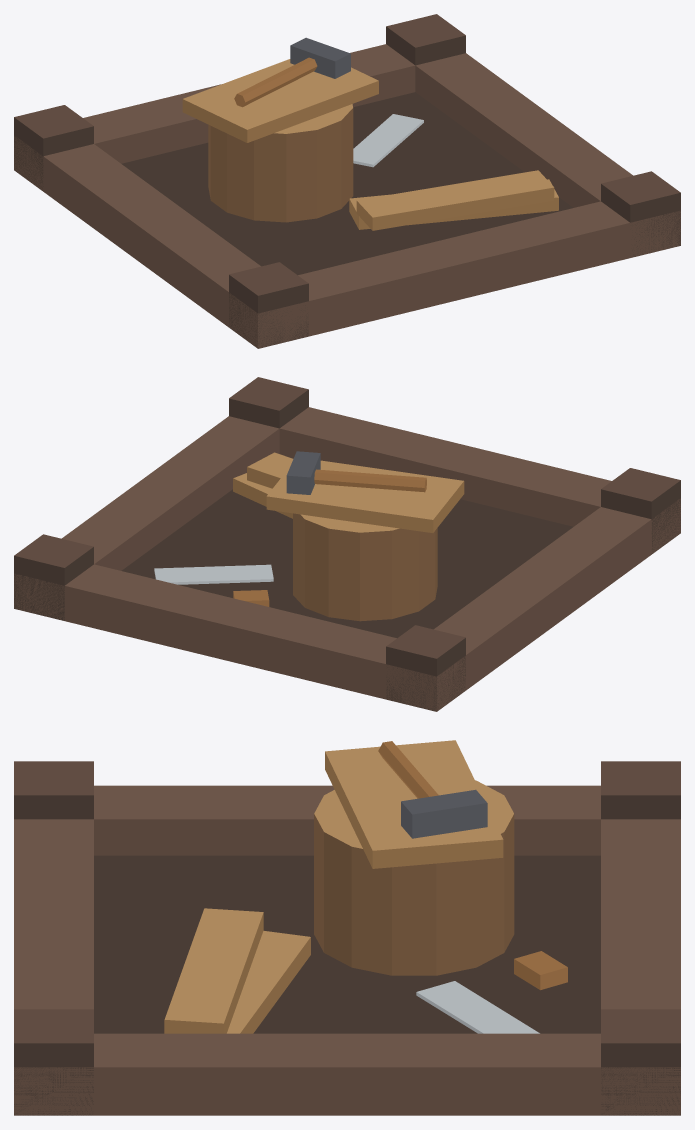
Rendered from Building_CraftingSpot.glb.
3 views of the same model, one above another, from view 1: azimuth 30°, elevation 25°; view 2: azimuth 150°, elevation 25°; view 3: azimuth 270°, elevation 25° (orthographic). The views are drawn at different scales.
Visible parts, largest first — view 1: CraftingSpot; view 2: CraftingSpot; view 3: CraftingSpot.
Boxes of the visible parts, box(x1,y1,x2,y2) form: CraftingSpot: box(14, 14, 680, 348); CraftingSpot: box(14, 377, 680, 711); CraftingSpot: box(14, 740, 680, 1115).
Bounding box in the file's own units: 1 × 0.295 × 1.
1 material, 1 textured.
